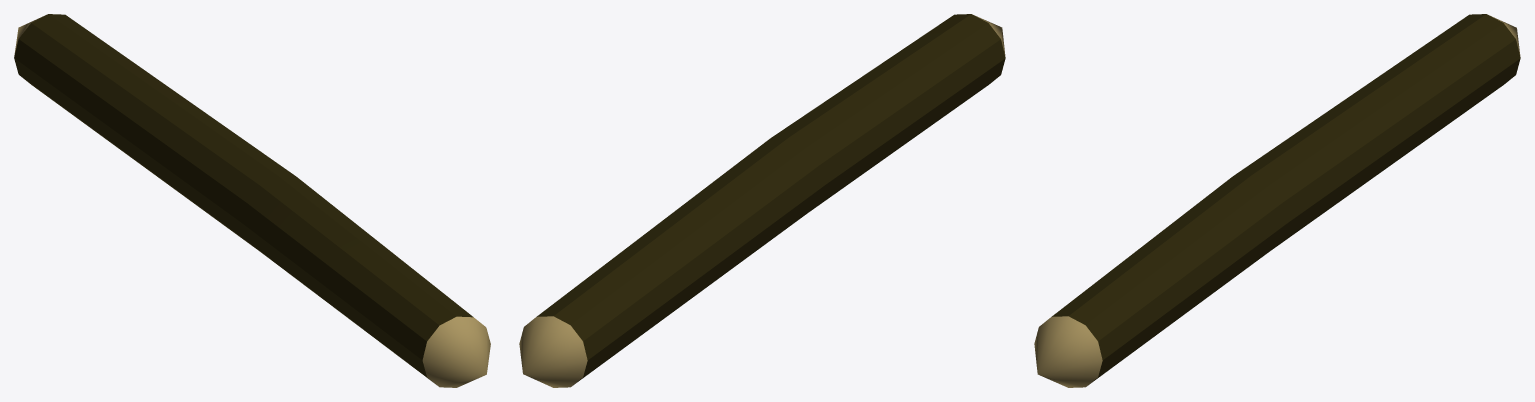
The model's file is prop_timber_1.glb.
3 views of the same model, side by side, from view 1: azimuth 30°, elevation 25°; view 2: azimuth 150°, elevation 25°; view 3: azimuth 330°, elevation 25° (orthographic).
Parts seen in each view (by area): view 1: prop_timber_1; view 2: prop_timber_1; view 3: prop_timber_1.
Boxes of the visible parts, x1=… form: prop_timber_1: x1=14, y1=14, x2=490, y2=387; prop_timber_1: x1=519, y1=14, x2=1005, y2=387; prop_timber_1: x1=1034, y1=14, x2=1520, y2=387.
Bounding box in the file's own units: 0.8735 × 0.913 × 9.8.
